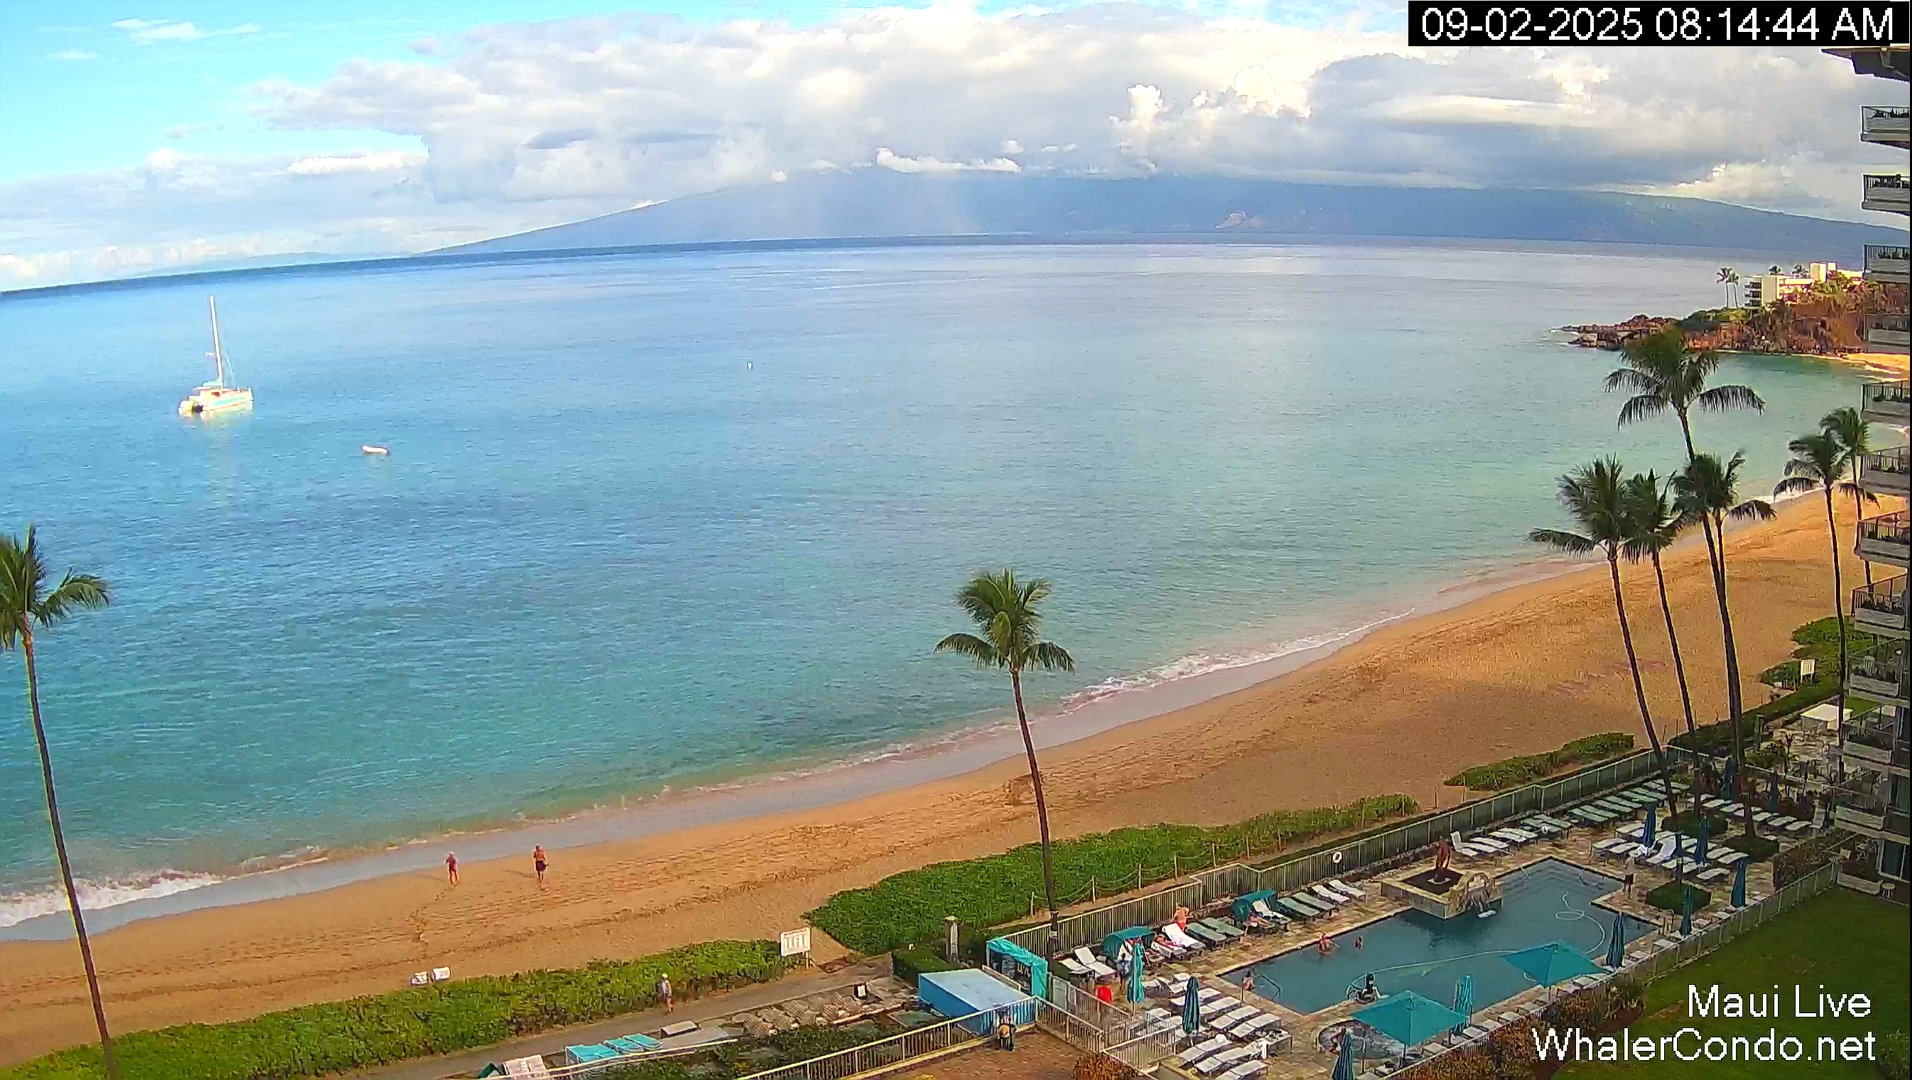boat: (178, 295, 254, 416), (475, 1032, 640, 1079)
person: (532, 844, 549, 882), (660, 973, 675, 1015), (1621, 854, 1636, 894), (1170, 903, 1190, 932), (444, 851, 459, 885), (1242, 966, 1255, 991), (998, 1024, 1010, 1049), (1009, 1024, 1017, 1049), (1353, 937, 1363, 950)
